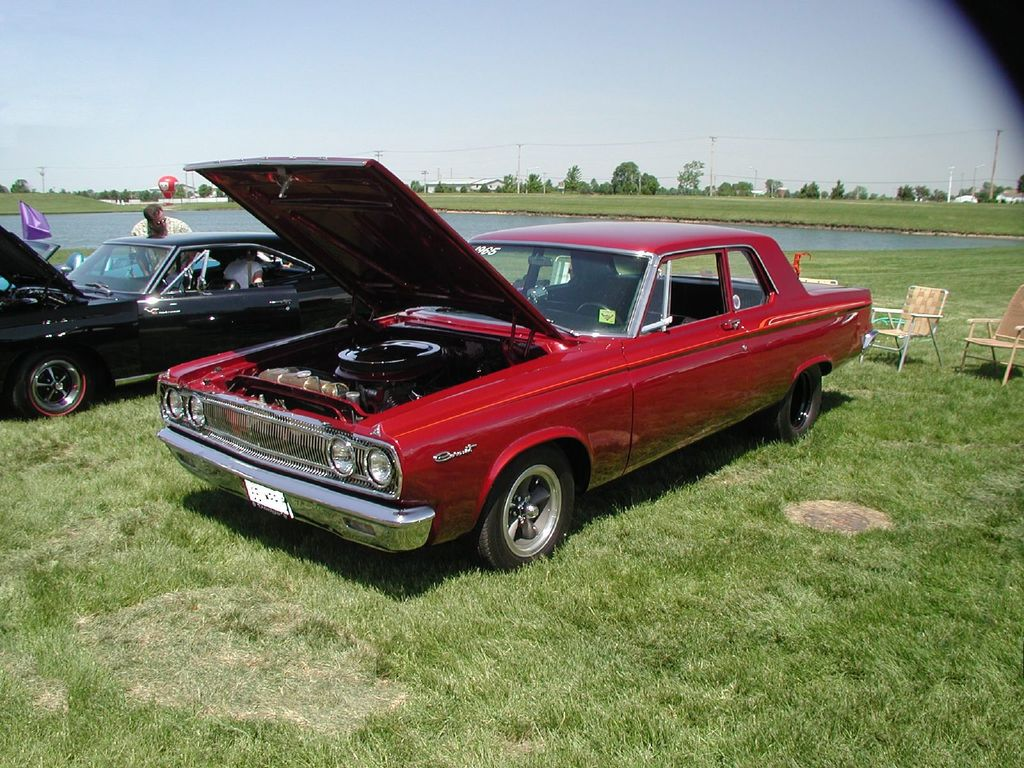Car: (151, 147, 875, 576), (0, 218, 370, 423)
